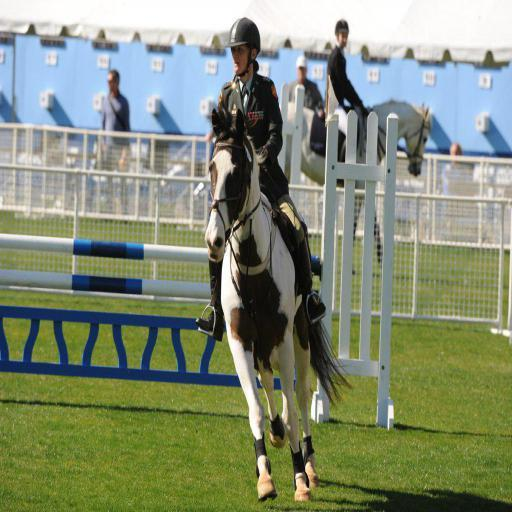horse: (202, 106, 354, 504), (284, 100, 432, 262)
